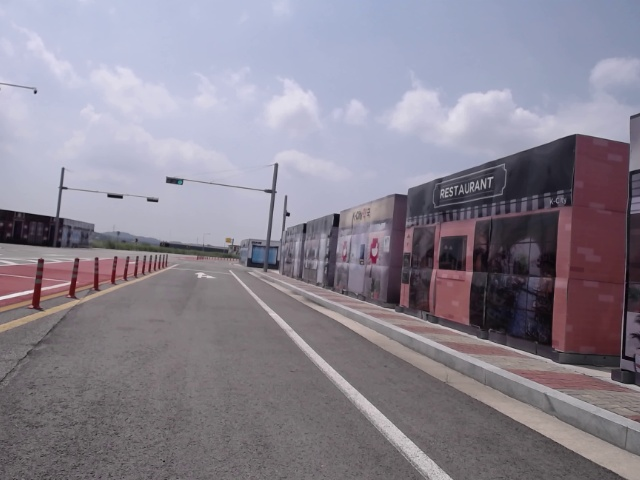green_3: (166, 177, 184, 186)
